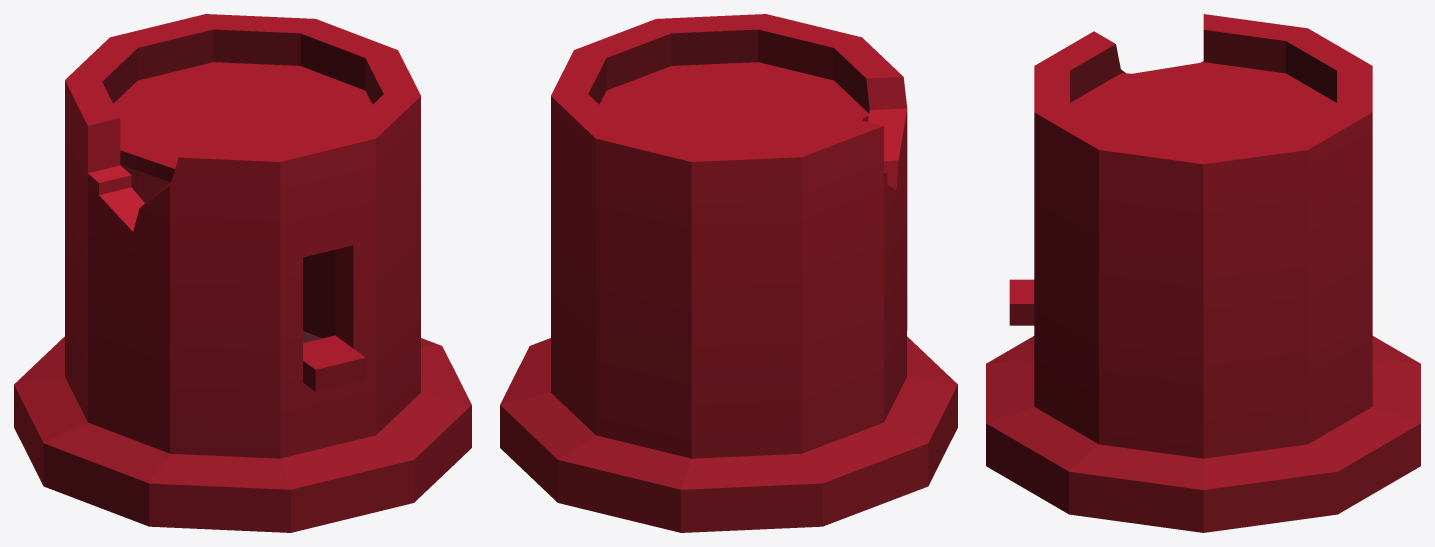
File: clinder_house_A2.fbx
3 views of the same model, side by side, from view 1: azimuth 30°, elevation 25°; view 2: azimuth 150°, elevation 25°; view 3: azimuth 270°, elevation 25° (orthographic).
Visible parts, largest first — view 1: clinder_house_A2; view 2: clinder_house_A2; view 3: clinder_house_A2.
Part boxes in pixels (box(x1,y1,x2,y2)): clinder_house_A2: box(14, 14, 471, 532); clinder_house_A2: box(500, 14, 957, 532); clinder_house_A2: box(986, 14, 1420, 532).
Size of the model in its own units: 298 by 250 by 283.
